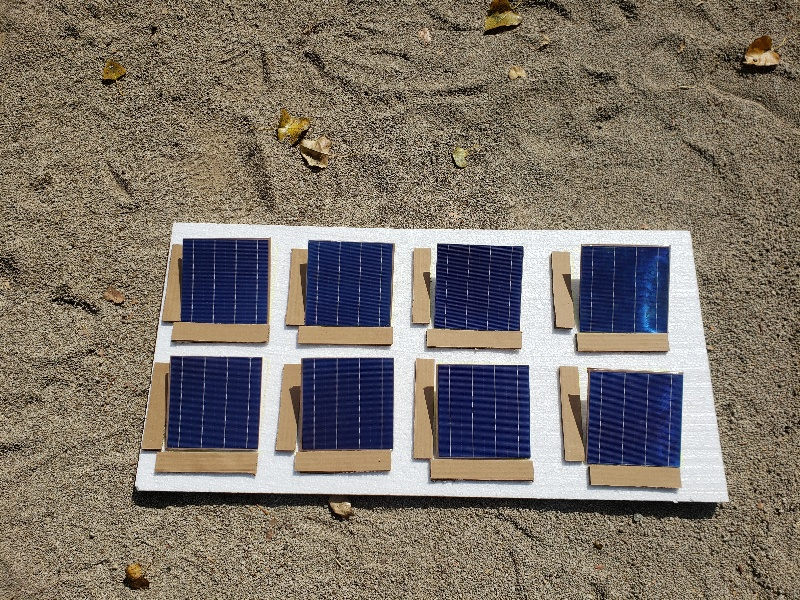clean: (162, 358, 262, 453), (434, 243, 533, 337), (297, 357, 395, 451), (436, 365, 533, 458), (176, 236, 273, 328), (590, 371, 681, 466), (307, 242, 394, 331), (581, 247, 670, 333)
